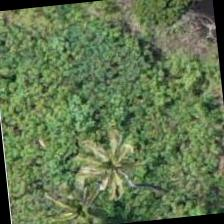Kelapa_Sawit: (59, 123, 158, 222), (27, 169, 123, 223)
